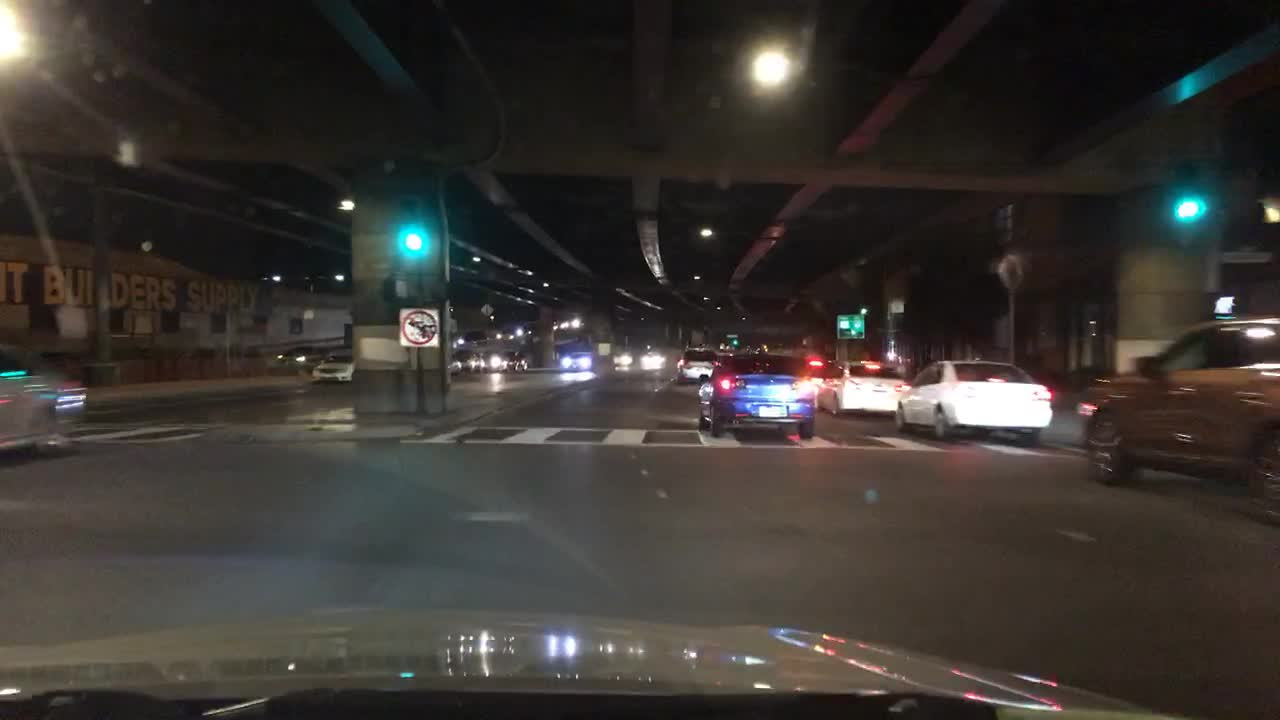car: (1077, 315, 1280, 519), (894, 358, 1055, 439), (696, 352, 817, 436), (0, 341, 88, 455), (821, 359, 908, 418), (765, 346, 825, 378), (308, 347, 354, 384), (675, 350, 715, 382), (489, 347, 527, 375), (559, 346, 596, 373), (275, 344, 318, 367), (638, 342, 667, 373), (457, 346, 490, 372), (447, 353, 466, 378), (610, 350, 632, 370)
traffic light: (401, 198, 429, 258), (1175, 180, 1201, 224), (731, 333, 742, 347)
traffic sign: (400, 309, 441, 349), (840, 313, 862, 335), (593, 344, 613, 356), (478, 303, 493, 319)
